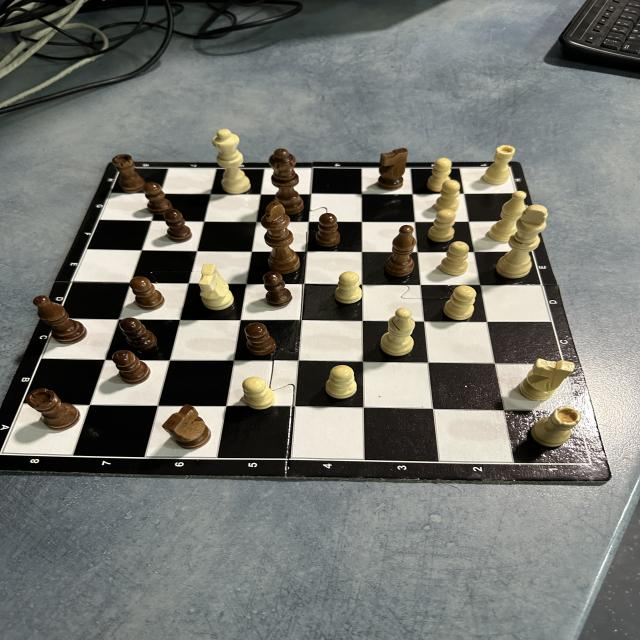Black-Bishop: (33, 294, 87, 344), (386, 225, 416, 277)
Black-King: (256, 202, 298, 278)
Black-Knight: (162, 404, 210, 450), (377, 146, 408, 190)
Black-Pawn: (120, 316, 158, 352), (110, 350, 150, 384), (130, 276, 164, 310), (264, 272, 293, 308), (244, 322, 276, 354), (162, 209, 192, 242), (145, 184, 173, 216), (315, 212, 340, 246)
Black-Queen: (268, 148, 304, 211)
Black-Rook: (29, 387, 80, 431), (110, 154, 148, 193)
White-Bishop: (488, 190, 528, 243), (380, 307, 416, 356)
White-King: (495, 204, 547, 278)
White-Knight: (518, 358, 574, 400), (199, 262, 235, 310)
White-Pawn: (444, 284, 475, 320), (325, 364, 357, 398), (243, 377, 274, 410), (441, 240, 468, 276), (335, 272, 362, 304), (428, 209, 454, 242), (429, 157, 452, 191), (436, 180, 460, 212)
White-Queen: (211, 129, 252, 194)
White-Rook: (529, 406, 580, 448), (482, 144, 514, 185)
